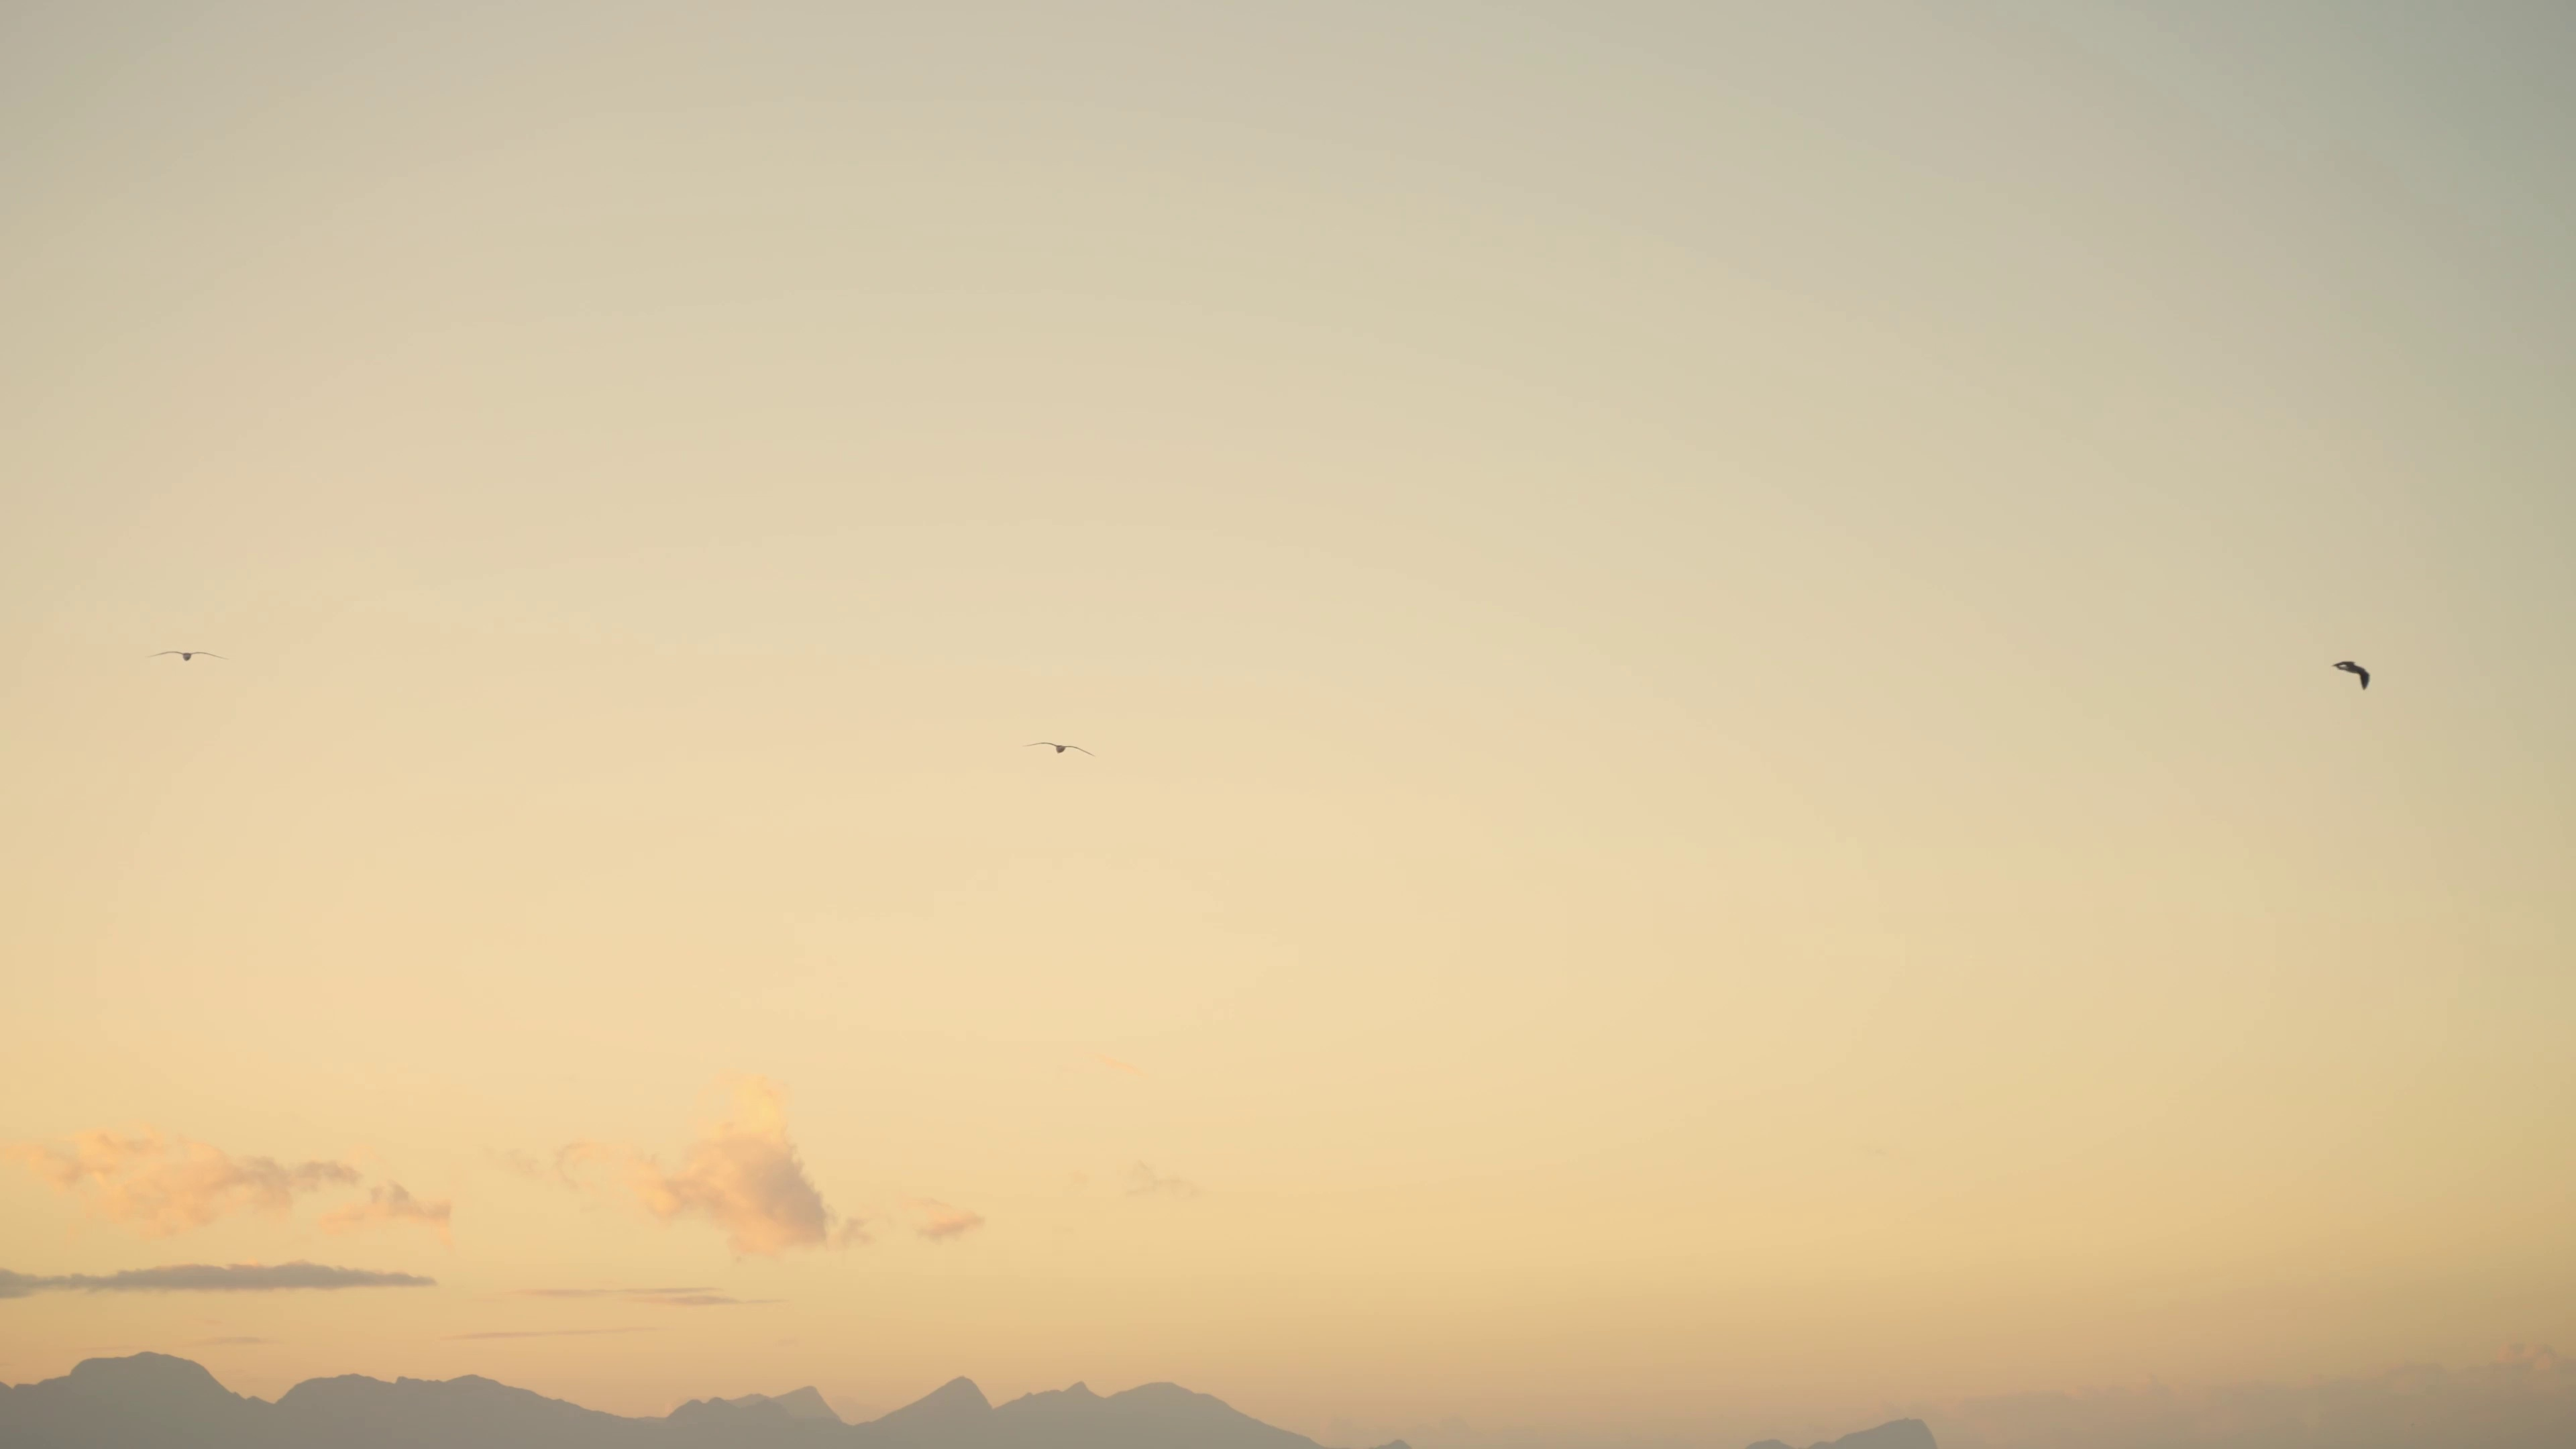bird: (145, 649, 228, 663), (2334, 660, 2371, 690), (1024, 743, 1093, 757)
